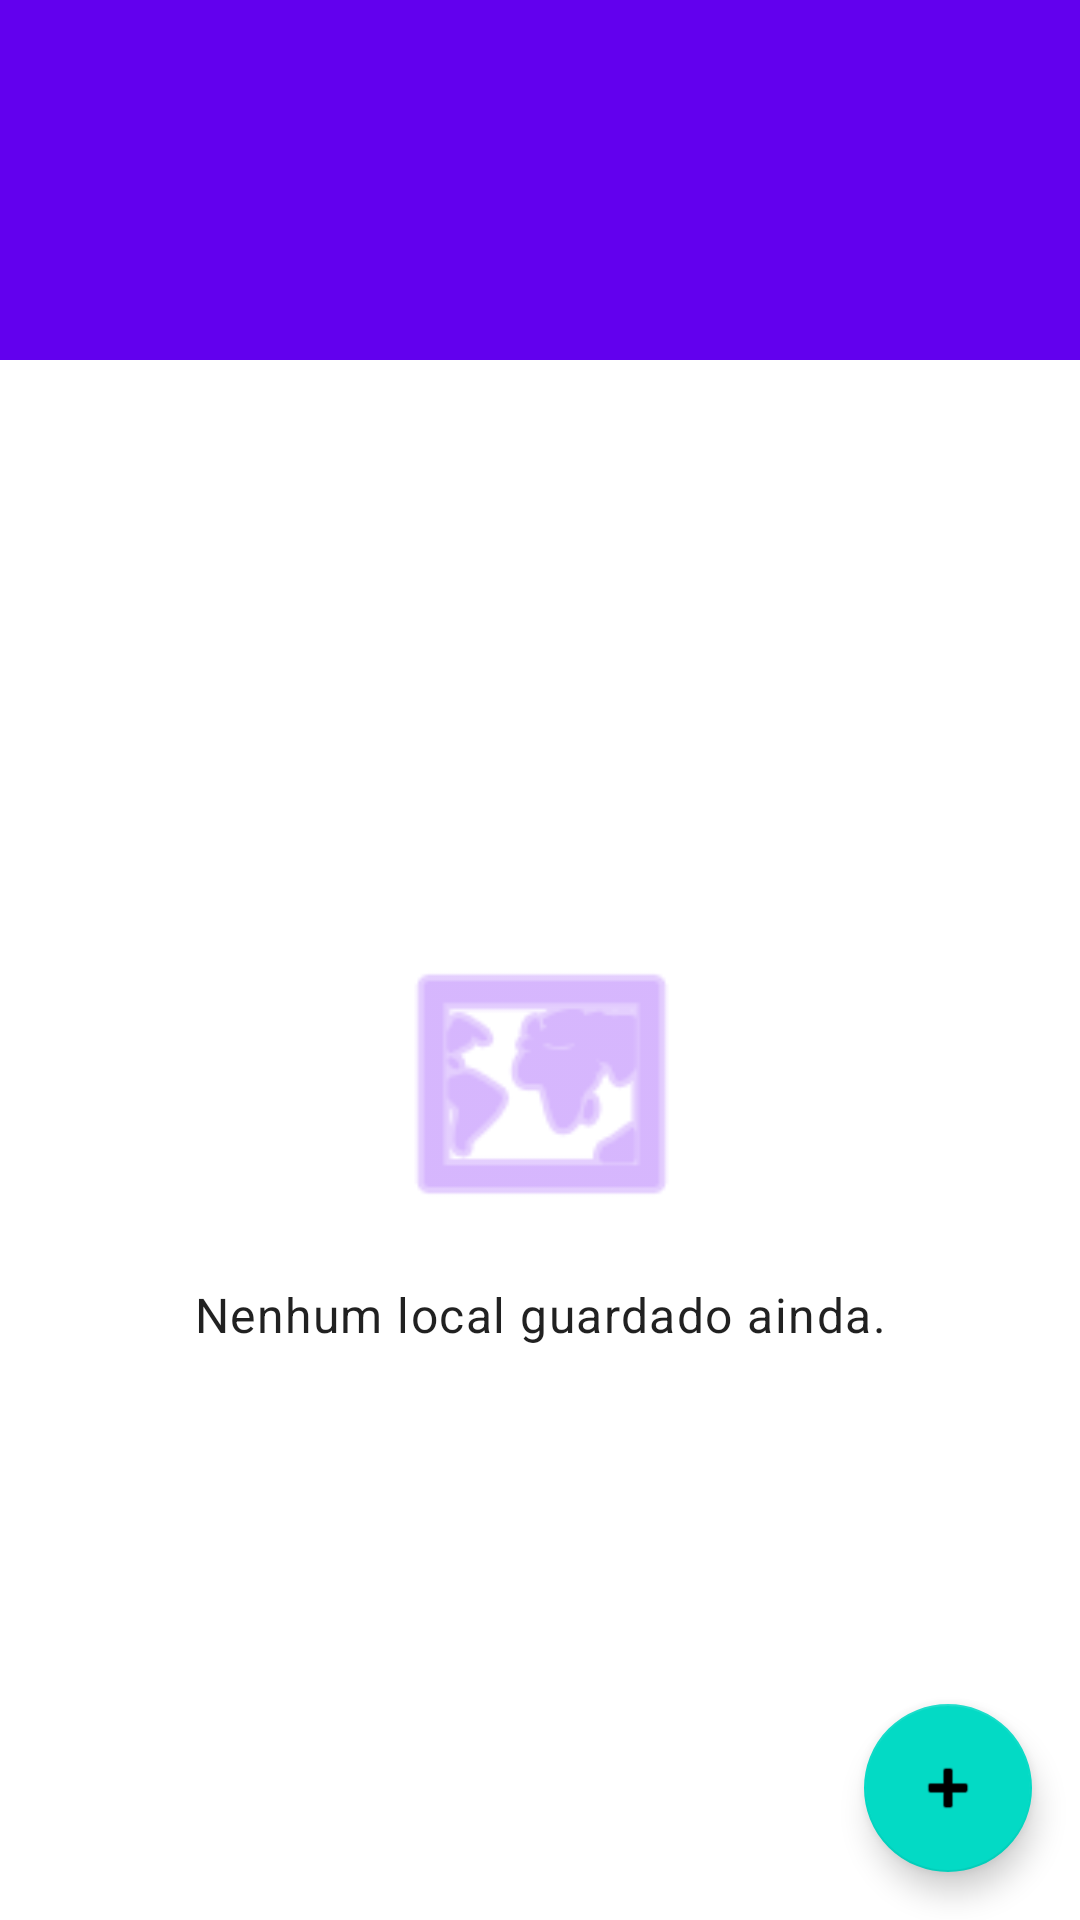

Icons on this 1080px×1920px Android screen, each with its box as (x1, y1, x2, y2):
No places icon: (418, 975, 666, 1193)
Novo Local: (864, 1704, 1032, 1872)
